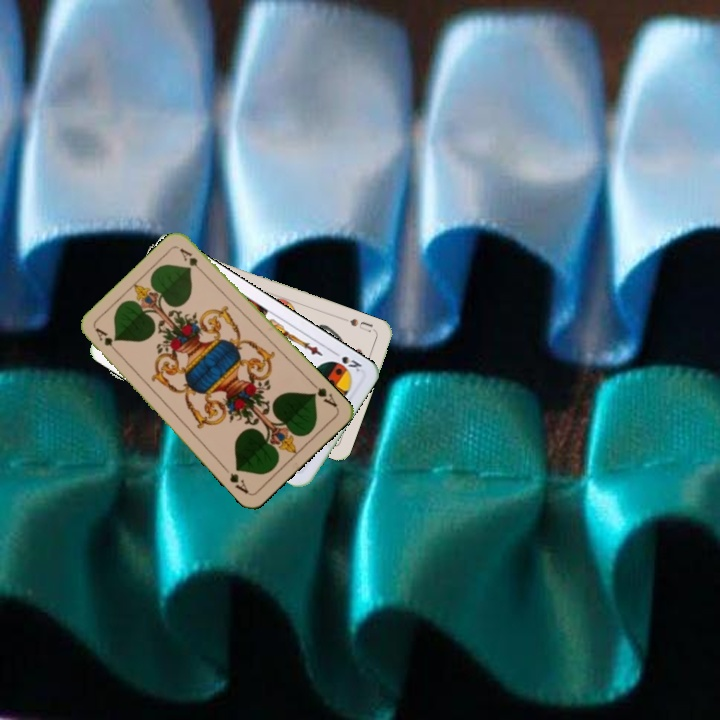GA: (91, 324, 123, 358), (307, 379, 340, 410)
SK: (328, 347, 365, 374)
SU: (339, 314, 378, 335)
